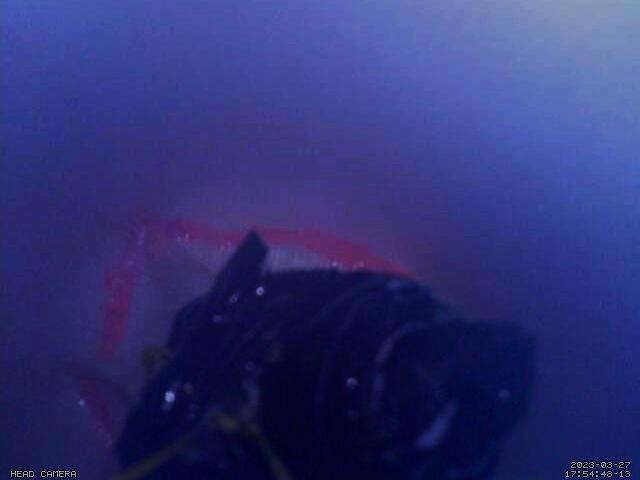head: (68, 210, 416, 457)
